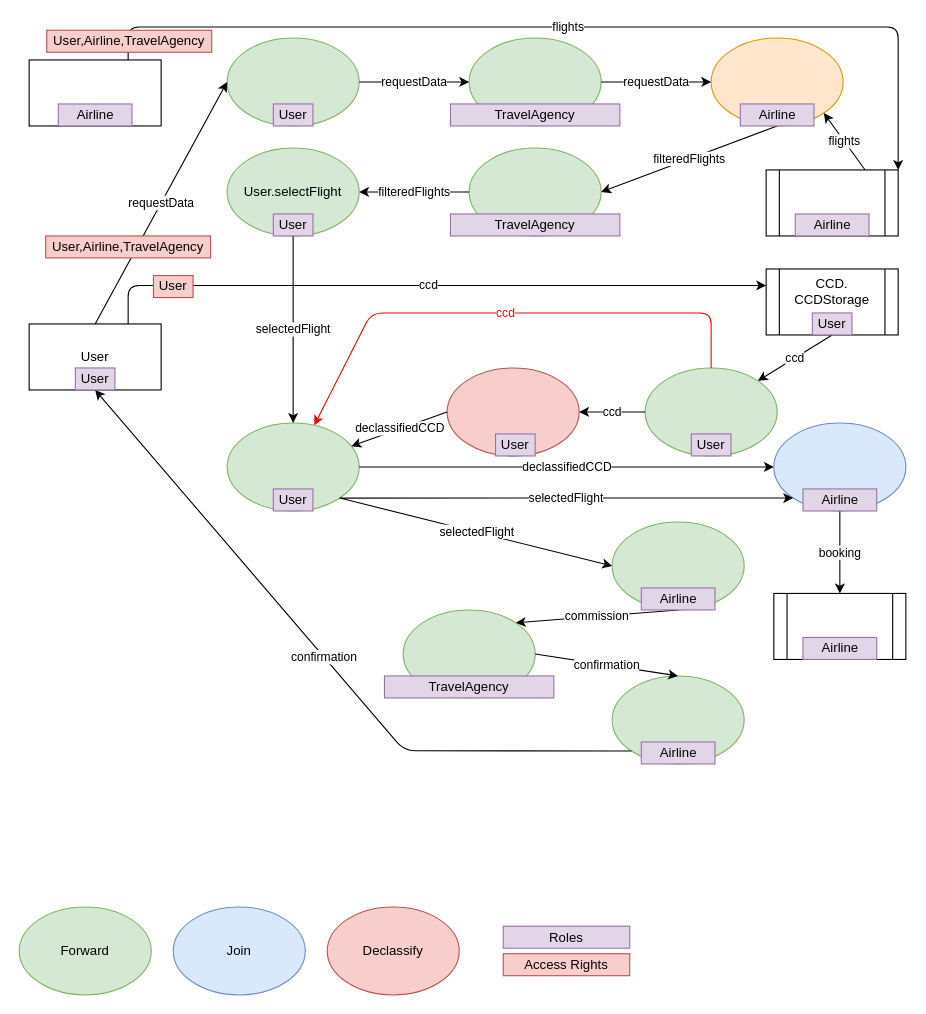
Some shapes in this 926 by 1014 pixel diagram are drawn without their labels. The box of each missing label's shape, as (x1, y1, x2, y2) in pixels:
Airline. BookingStorage: (773, 592, 906, 659)
Airline. confirmBooking: (611, 675, 744, 764)
Airline. FlightStorage: (765, 169, 898, 236)
Airline. processBooking: (773, 422, 906, 511)
Airline. sendCommission: (611, 521, 744, 610)
Airline.filterFlights: (710, 37, 843, 126)
CCD.declassifyCCD: (446, 367, 579, 456)
CCD.readCCD: (644, 367, 777, 456)
FlightPlanner: (28, 59, 161, 126)
TA. confirmCommission: (402, 609, 535, 698)
TA.redirectFlights: (468, 147, 601, 236)
TA.redirectRequest: (468, 37, 601, 126)
User. dispatchRequest: (226, 37, 359, 126)
User.bookFlight: (226, 422, 359, 511)
